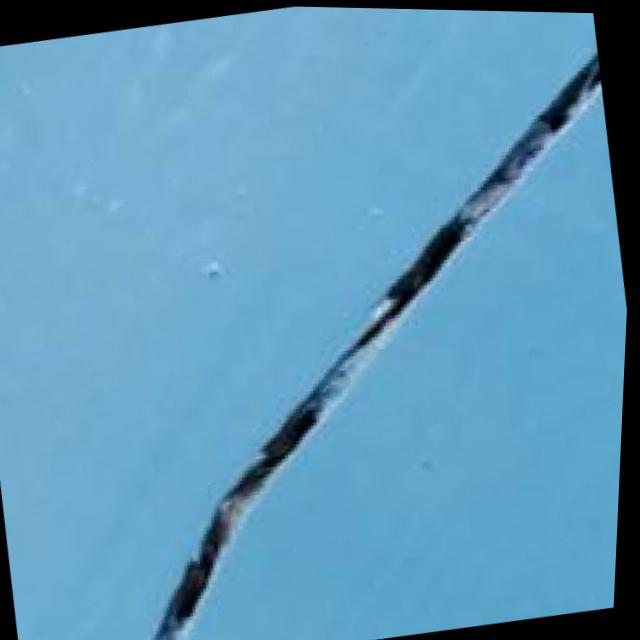Crack: (45, 15, 640, 640)
